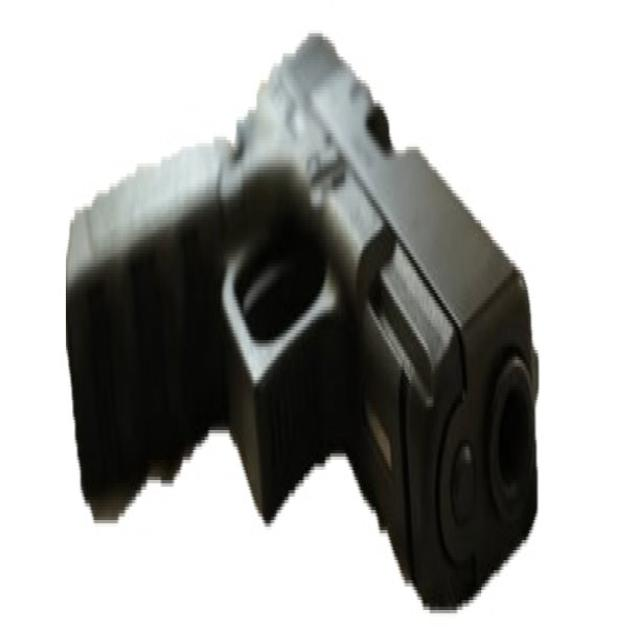pistol: (60, 30, 546, 621)
